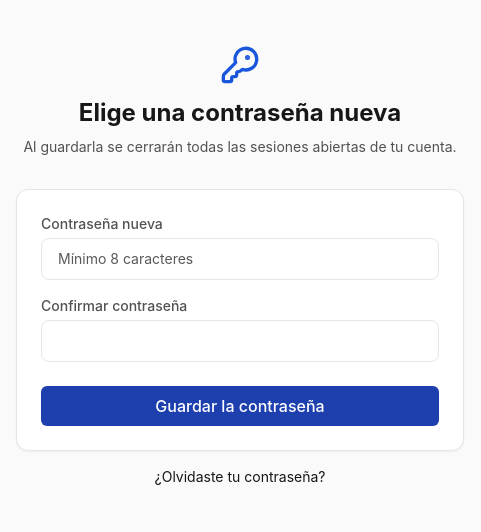
Test: Elegir la contraseña nueva › si no coinciden, no la manda
Type "Nueva12345!" into the password field labelled "Contraseña nueva" at (240, 259), box [41, 238, 439, 280]
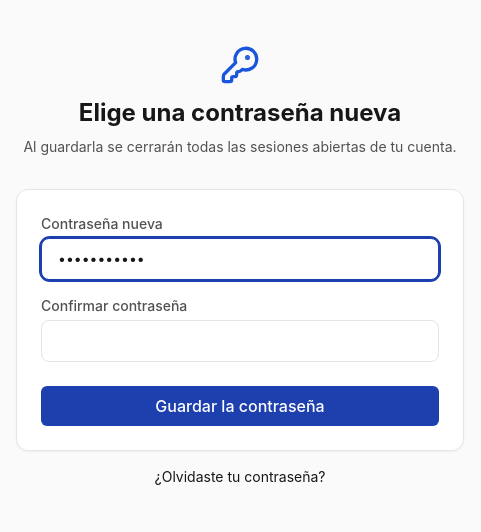
Type "Otra12345!" into the password field labelled "Confirmar contraseña" at (240, 341), box [41, 320, 439, 362]
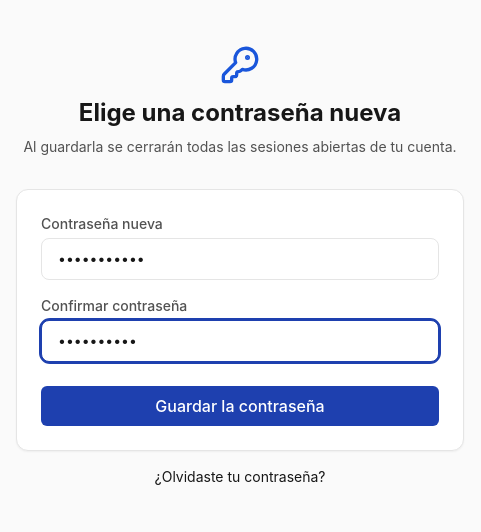
Click the button "Guardar la contraseña" at (240, 406), box [41, 386, 439, 426]
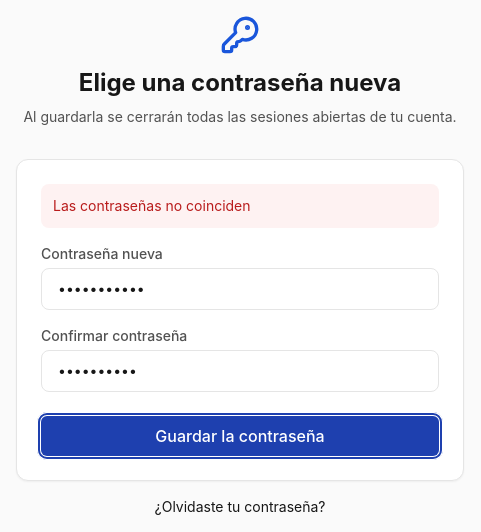
Result: the message reads "Las contraseñas no coinciden" at [53, 197, 250, 214]
